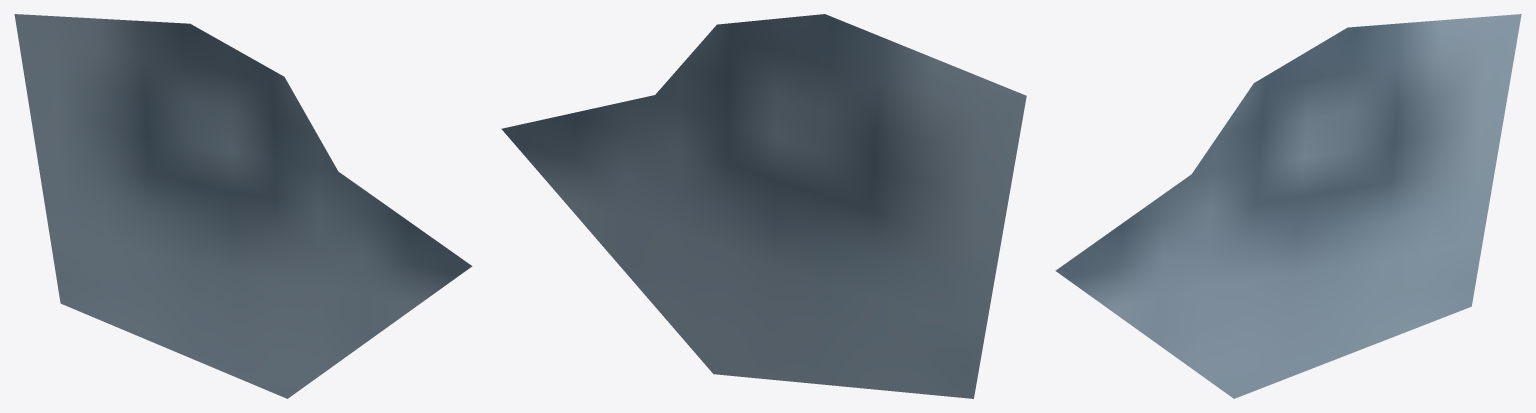
The picture shows the model from 3 angles, left to right: view 1: azimuth 30°, elevation 25°; view 2: azimuth 210°, elevation 25°; view 3: azimuth 270°, elevation 25°; orthographic projection. The views are drawn at different scales.
Parts seen in each view (by area): view 1: Tile_1.008; view 2: Tile_1.008; view 3: Tile_1.008.
Part boxes in pixels (<box>): Tile_1.008: <box>14,14,472,398</box>; Tile_1.008: <box>501,14,1026,398</box>; Tile_1.008: <box>1055,14,1521,398</box>.
Size of the model in its own units: 0.879 by 1.26 by 1.52.
1 material, 1 textured.
